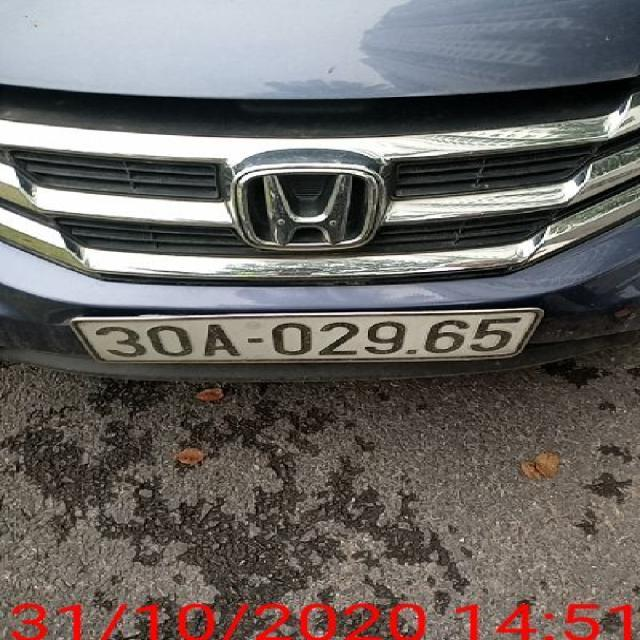bien_so_oto: (70, 306, 550, 366)
